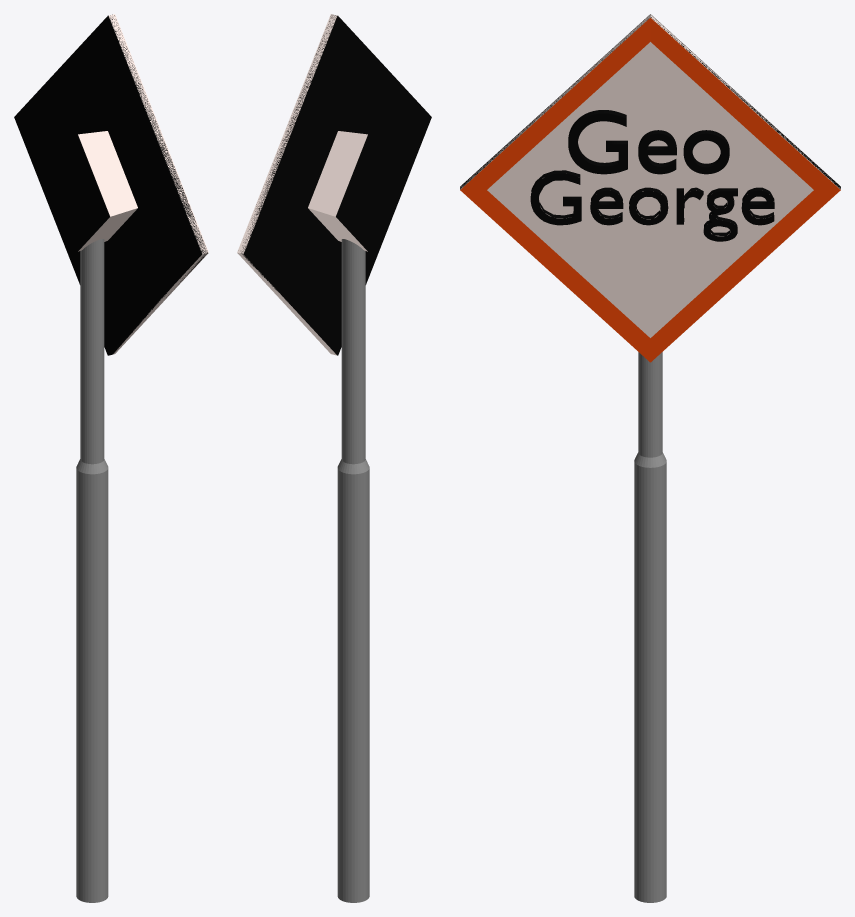
Rendered from sign.fbx.
The picture shows the model from 3 angles, left to right: view 1: azimuth 30°, elevation 25°; view 2: azimuth 150°, elevation 25°; view 3: azimuth 270°, elevation 25°; orthographic projection.
Visible parts, largest first — view 1: sign; view 2: sign; view 3: sign.
Boxes of the visible parts, x1,y1,x2,y2 form: sign: [14, 14, 208, 902]; sign: [237, 14, 431, 902]; sign: [460, 14, 840, 902].
Size of the model in its own units: 17.84 by 332 by 129.
